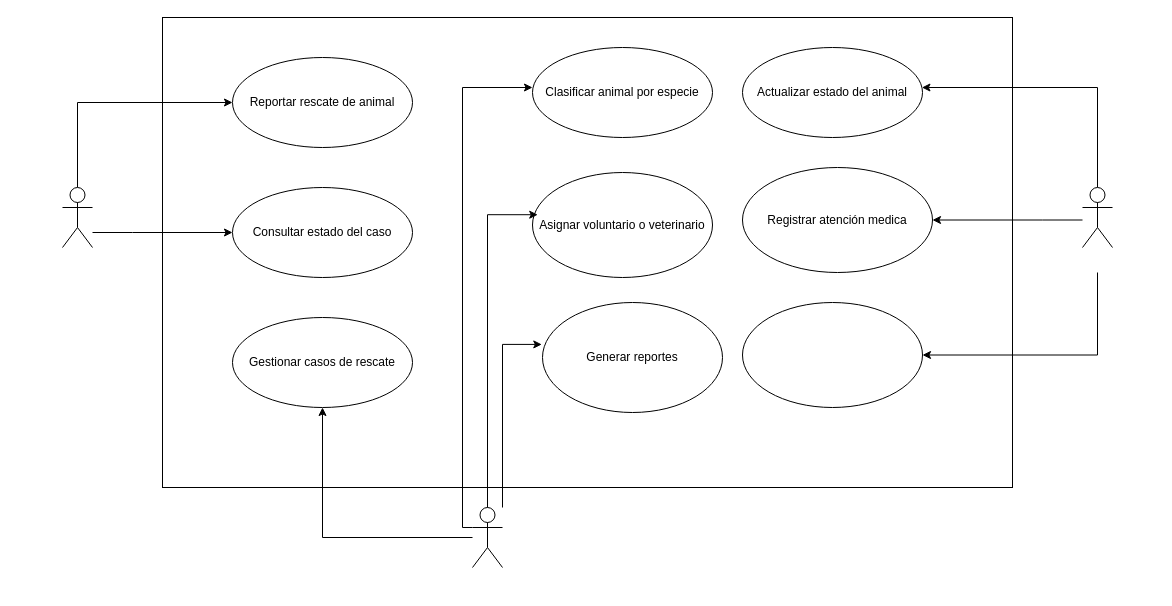
Image size: 1172x606. Some labels were removed from this diagram. Here are the shapes that lost their labels. From the top down, the box of each, then its label:
(62, 186, 92, 248): Ciudadano/Reportante
(1082, 186, 1112, 248): Voluntario/Veterinario
(742, 302, 922, 408): Consultar casos asignados
(472, 506, 502, 568): Administrador del refugio
